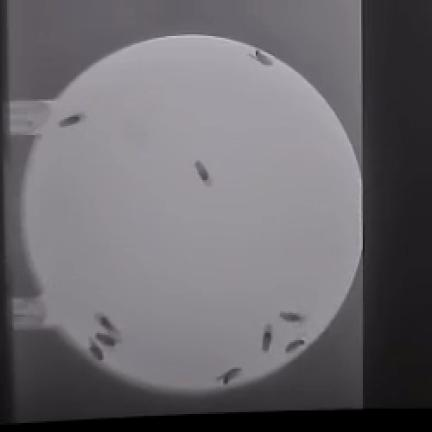fly: (96, 314, 119, 340), (216, 368, 241, 385), (261, 324, 273, 352), (251, 51, 273, 66), (96, 333, 119, 347), (196, 161, 210, 183), (89, 339, 103, 361), (59, 114, 82, 127), (280, 312, 304, 323), (286, 339, 305, 352)
